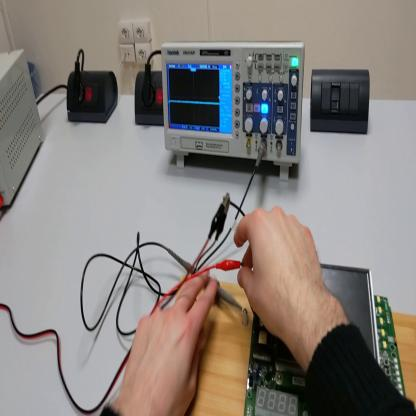hand: (119, 266, 218, 416), (234, 205, 327, 349)
low voltage board: (246, 277, 406, 415)
oscilloscope: (162, 36, 307, 181)
oscilloscope probe tip: (168, 251, 243, 317)
power supply: (2, 51, 46, 210)
socket: (68, 67, 121, 126), (136, 71, 164, 129)
working area: (187, 279, 416, 413)
